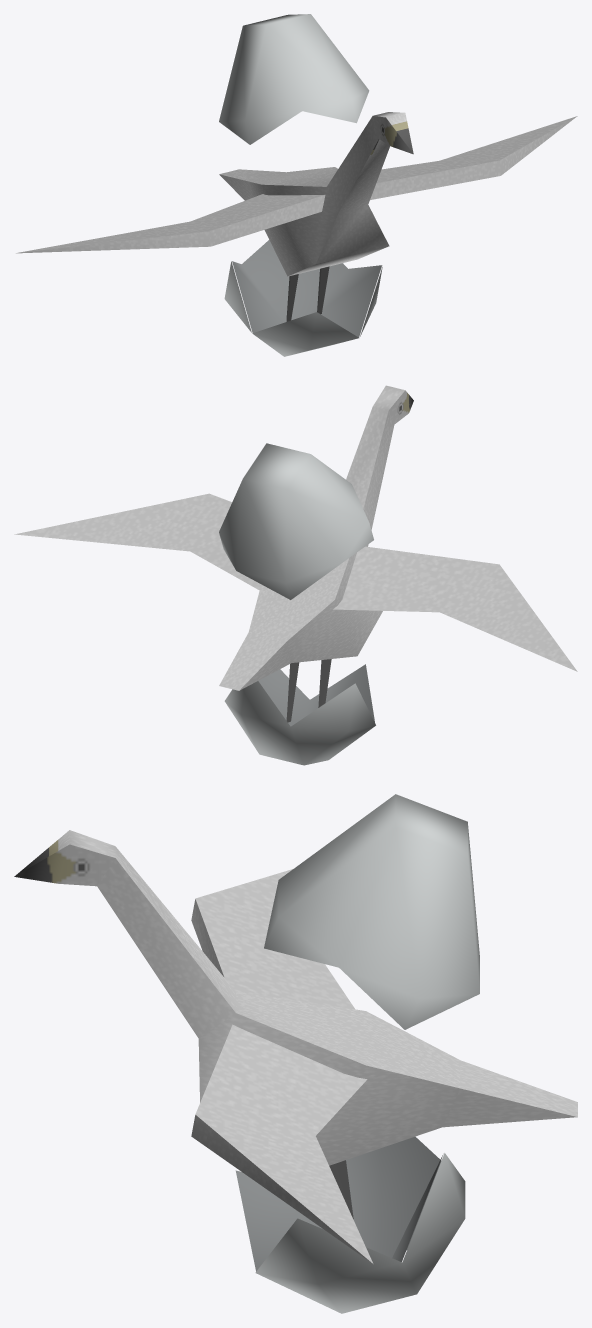
The model's file is 0420_Swan.glb.
3 views of the same model, one above another, from view 1: azimuth 30°, elevation 25°; view 2: azimuth 150°, elevation 25°; view 3: azimuth 270°, elevation 25° (orthographic). The views are drawn at different scales.
Parts seen in each view (by area): view 1: part_0; view 2: part_0; view 3: part_0.
Boxes of the visible parts, x1,y1,x2,y2 form: part_0: (16,14,577,356); part_0: (14,385,577,765); part_0: (14,794,577,1313).
Size of the model in its own units: 0.2841 by 0.1536 by 0.1613.
1 material, 1 textured.
